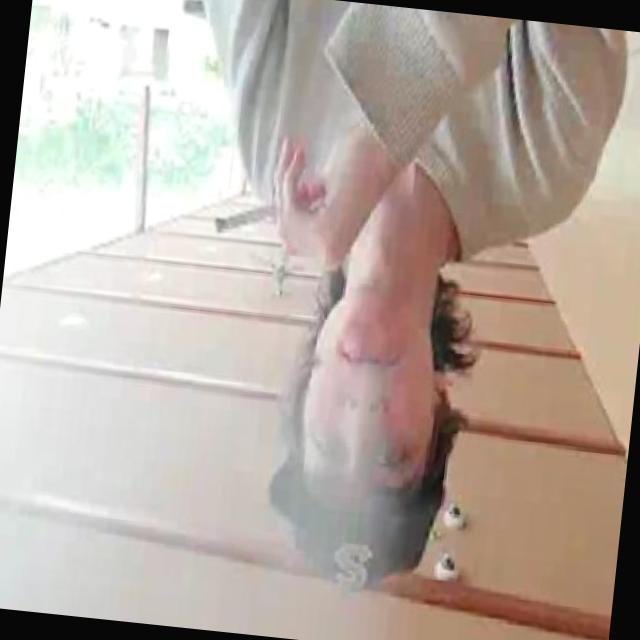cigarette: (202, 175, 302, 258)
